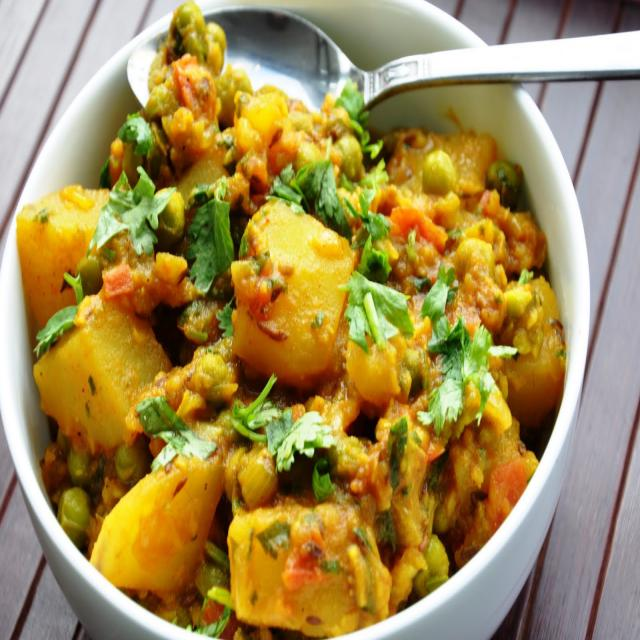Aloo Matar: (18, 39, 565, 626)
